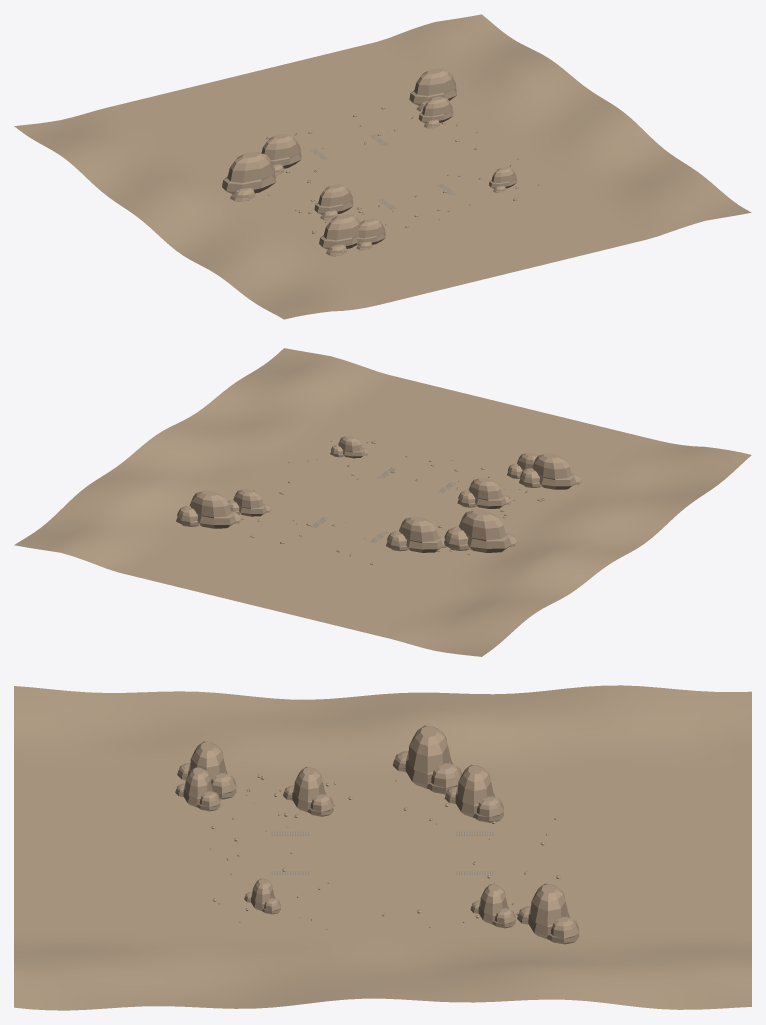
Rendered from NW1_Desert.fbx.
3 renders of one model, top to bottom at view 1: azimuth 30°, elevation 25°; view 2: azimuth 150°, elevation 25°; view 3: azimuth 270°, elevation 25°, orthographic. The views are drawn at different scales.
Parts seen in each view (by area): view 1: NW1_Desert_NW1_Ground, Desert outcrop_7_NW1_Rock, Desert outcrop_5_NW1_Rock, Desert outcrop_3_NW1_Rock, Desert outcrop_1_NW1_Rock, Desert outcrop_0_NW1_Rock, Desert outcrop_2_NW1_Rock, Desert outcrop_6_NW1_Rock, Desert outcrop_4_NW1_Rock; view 2: NW1_Desert_NW1_Ground, Desert outcrop_7_NW1_Rock, Desert outcrop_3_NW1_Rock, Desert outcrop_5_NW1_Rock, Desert outcrop_1_NW1_Rock, Desert outcrop_0_NW1_Rock, Desert outcrop_2_NW1_Rock, Desert outcrop_4_NW1_Rock; view 3: NW1_Desert_NW1_Ground, Desert outcrop_7_NW1_Rock, Desert outcrop_3_NW1_Rock, Desert outcrop_1_NW1_Rock, Desert outcrop_5_NW1_Rock, Desert outcrop_0_NW1_Rock, Desert outcrop_2_NW1_Rock, Desert outcrop_6_NW1_Rock, Desert outcrop_4_NW1_Rock.
Part boxes in pixels (left/top/right/bottom): NW1_Desert_NW1_Ground: left=14, top=14, right=751, bottom=319; Desert outcrop_7_NW1_Rock: left=222, top=151, right=276, bottom=201; Desert outcrop_5_NW1_Rock: left=319, top=214, right=360, bottom=256; Desert outcrop_3_NW1_Rock: left=409, top=68, right=457, bottom=112; Desert outcrop_1_NW1_Rock: left=261, top=134, right=301, bottom=175; Desert outcrop_0_NW1_Rock: left=314, top=184, right=353, bottom=220; Desert outcrop_2_NW1_Rock: left=418, top=96, right=453, bottom=128; Desert outcrop_6_NW1_Rock: left=356, top=218, right=385, bottom=250; Desert outcrop_4_NW1_Rock: left=489, top=167, right=516, bottom=192; NW1_Desert_NW1_Ground: left=14, top=348, right=751, bottom=656; Desert outcrop_7_NW1_Rock: left=444, top=509, right=518, bottom=552; Desert outcrop_3_NW1_Rock: left=176, top=490, right=241, bottom=528; Desert outcrop_5_NW1_Rock: left=519, top=453, right=581, bottom=489; Desert outcrop_1_NW1_Rock: left=386, top=516, right=446, bottom=552; Desert outcrop_0_NW1_Rock: left=457, top=478, right=511, bottom=508; Desert outcrop_2_NW1_Rock: left=227, top=489, right=271, bottom=516; Desert outcrop_4_NW1_Rock: left=330, top=436, right=368, bottom=458; NW1_Desert_NW1_Ground: left=14, top=685, right=751, bottom=1010; Desert outcrop_7_NW1_Rock: left=393, top=725, right=461, bottom=794; Desert outcrop_3_NW1_Rock: left=517, top=883, right=579, bottom=944; Desert outcrop_1_NW1_Rock: left=444, top=764, right=504, bottom=822; Desert outcrop_5_NW1_Rock: left=177, top=741, right=236, bottom=799; Desert outcrop_0_NW1_Rock: left=283, top=767, right=333, bottom=816; Desert outcrop_2_NW1_Rock: left=470, top=884, right=515, bottom=928; Desert outcrop_6_NW1_Rock: left=175, top=767, right=220, bottom=811; Desert outcrop_4_NW1_Rock: left=244, top=878, right=280, bottom=914.
Size of the model in its own units: 80 by 5.66 by 80.
